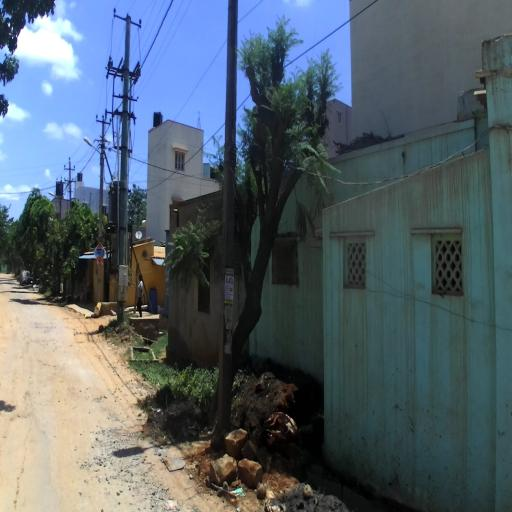street_light_0: (83, 136, 104, 165), (48, 191, 62, 206)
